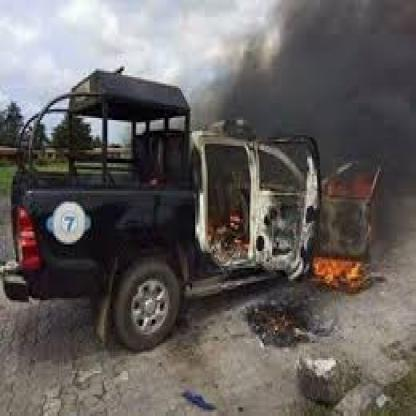fire: (263, 14, 390, 288)
